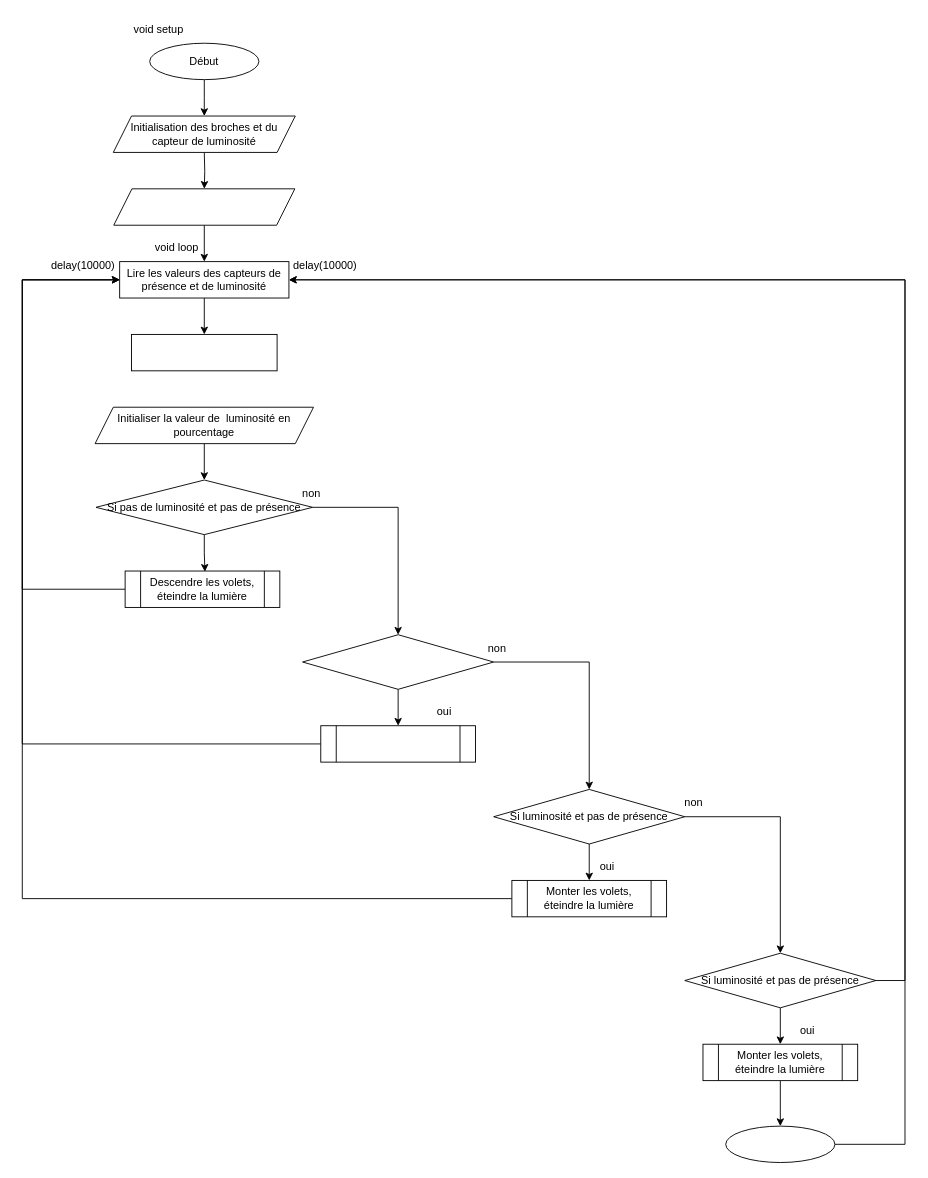
The diagram is 928 pixels wide and 1178 high, and some of its shapes have lost their labels. Each missing label, with the centre of its shape:
"Calculer la luminosité en pourcentage" goes at point 204,352.
"Descendre les volets, allumer la lumière" goes at point 397,743.
"Fin" goes at point 780,1144.
"Initialisation de l'écran LCD" goes at point 204,206.
"Si pas de luminosité et présence" goes at point 398,661.
